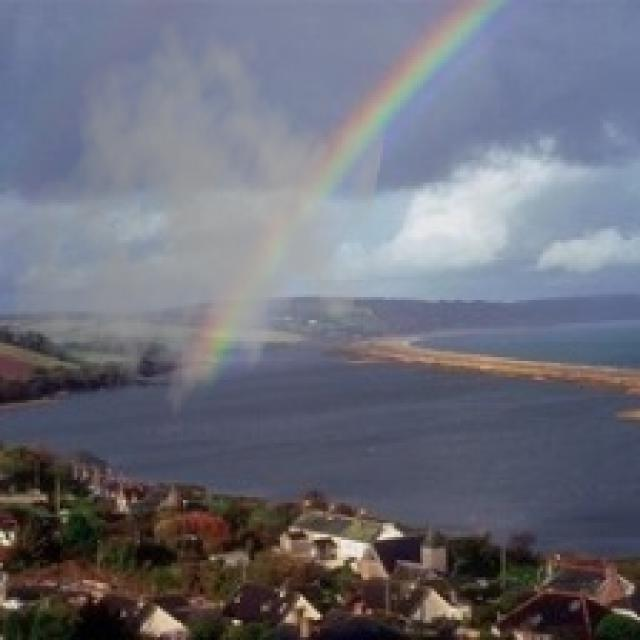smoke: (6, 14, 388, 434)
